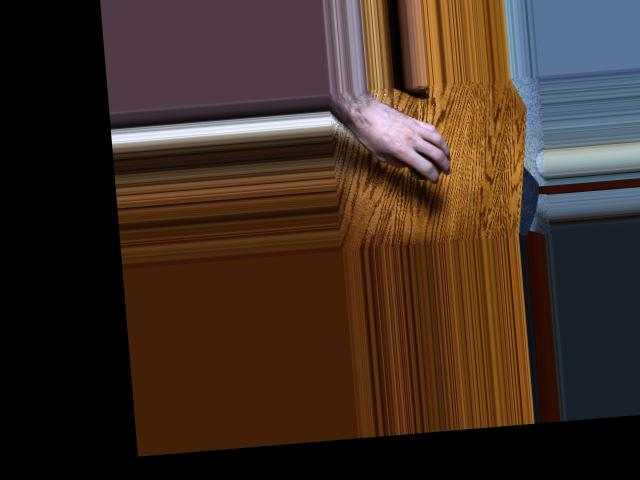onion: (403, 144, 446, 182)
